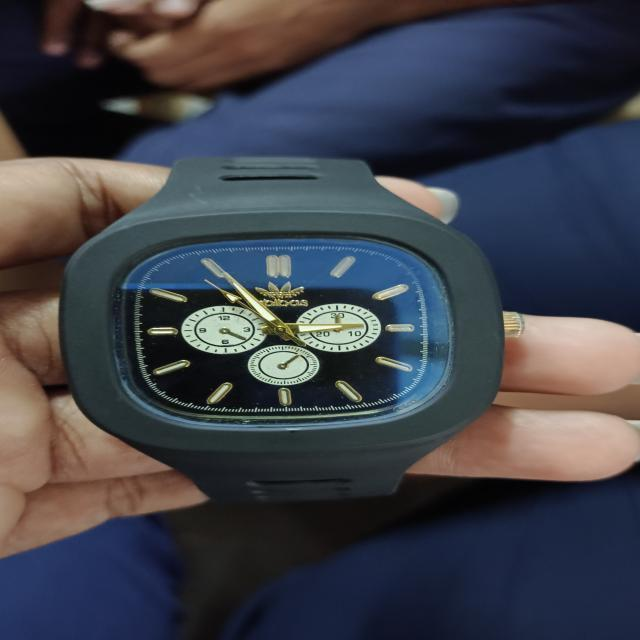Watch: (61, 156, 526, 508)
